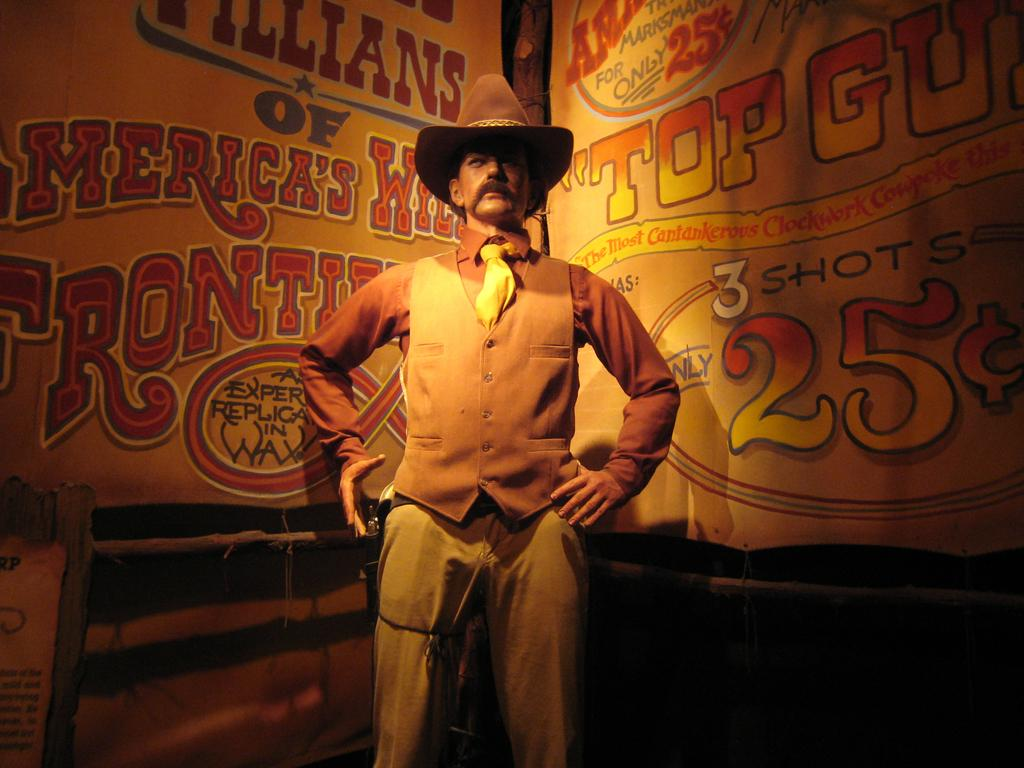Hat: (411, 71, 577, 204)
